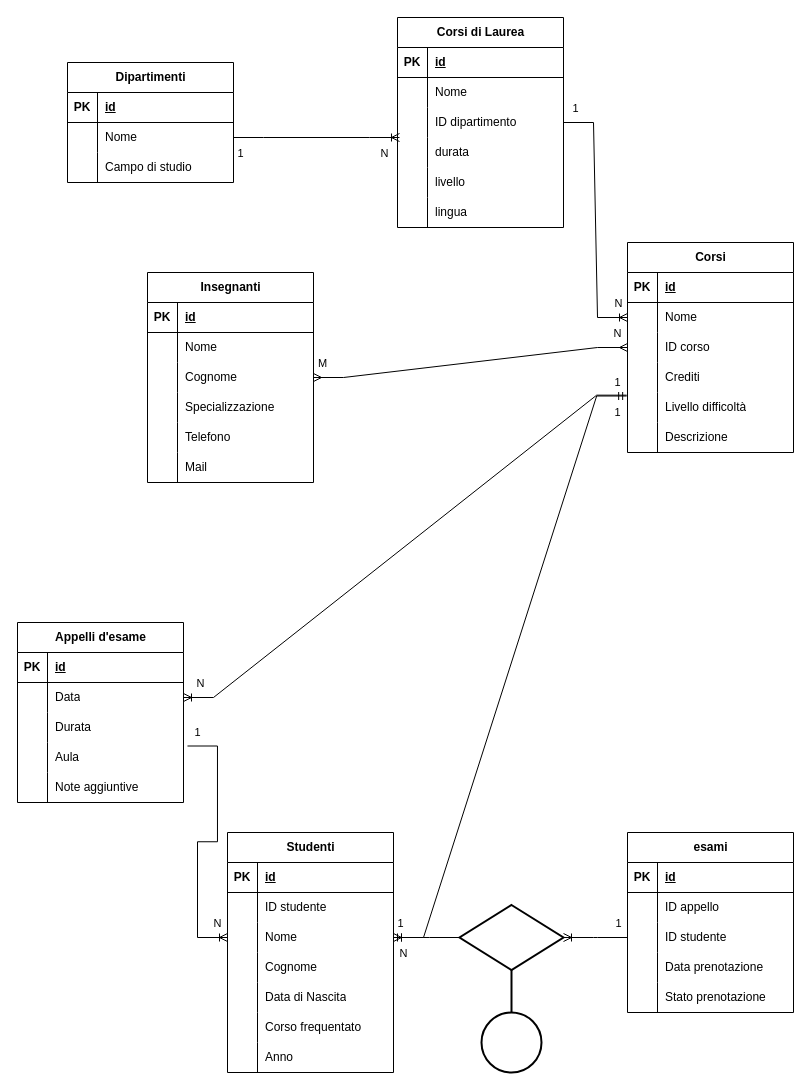
Image size: 811x1091. Some labels were removed from this diagram. Each missing label, with the centre of its shape:
esame: the point at 511,937
voto: the point at 511,1042
